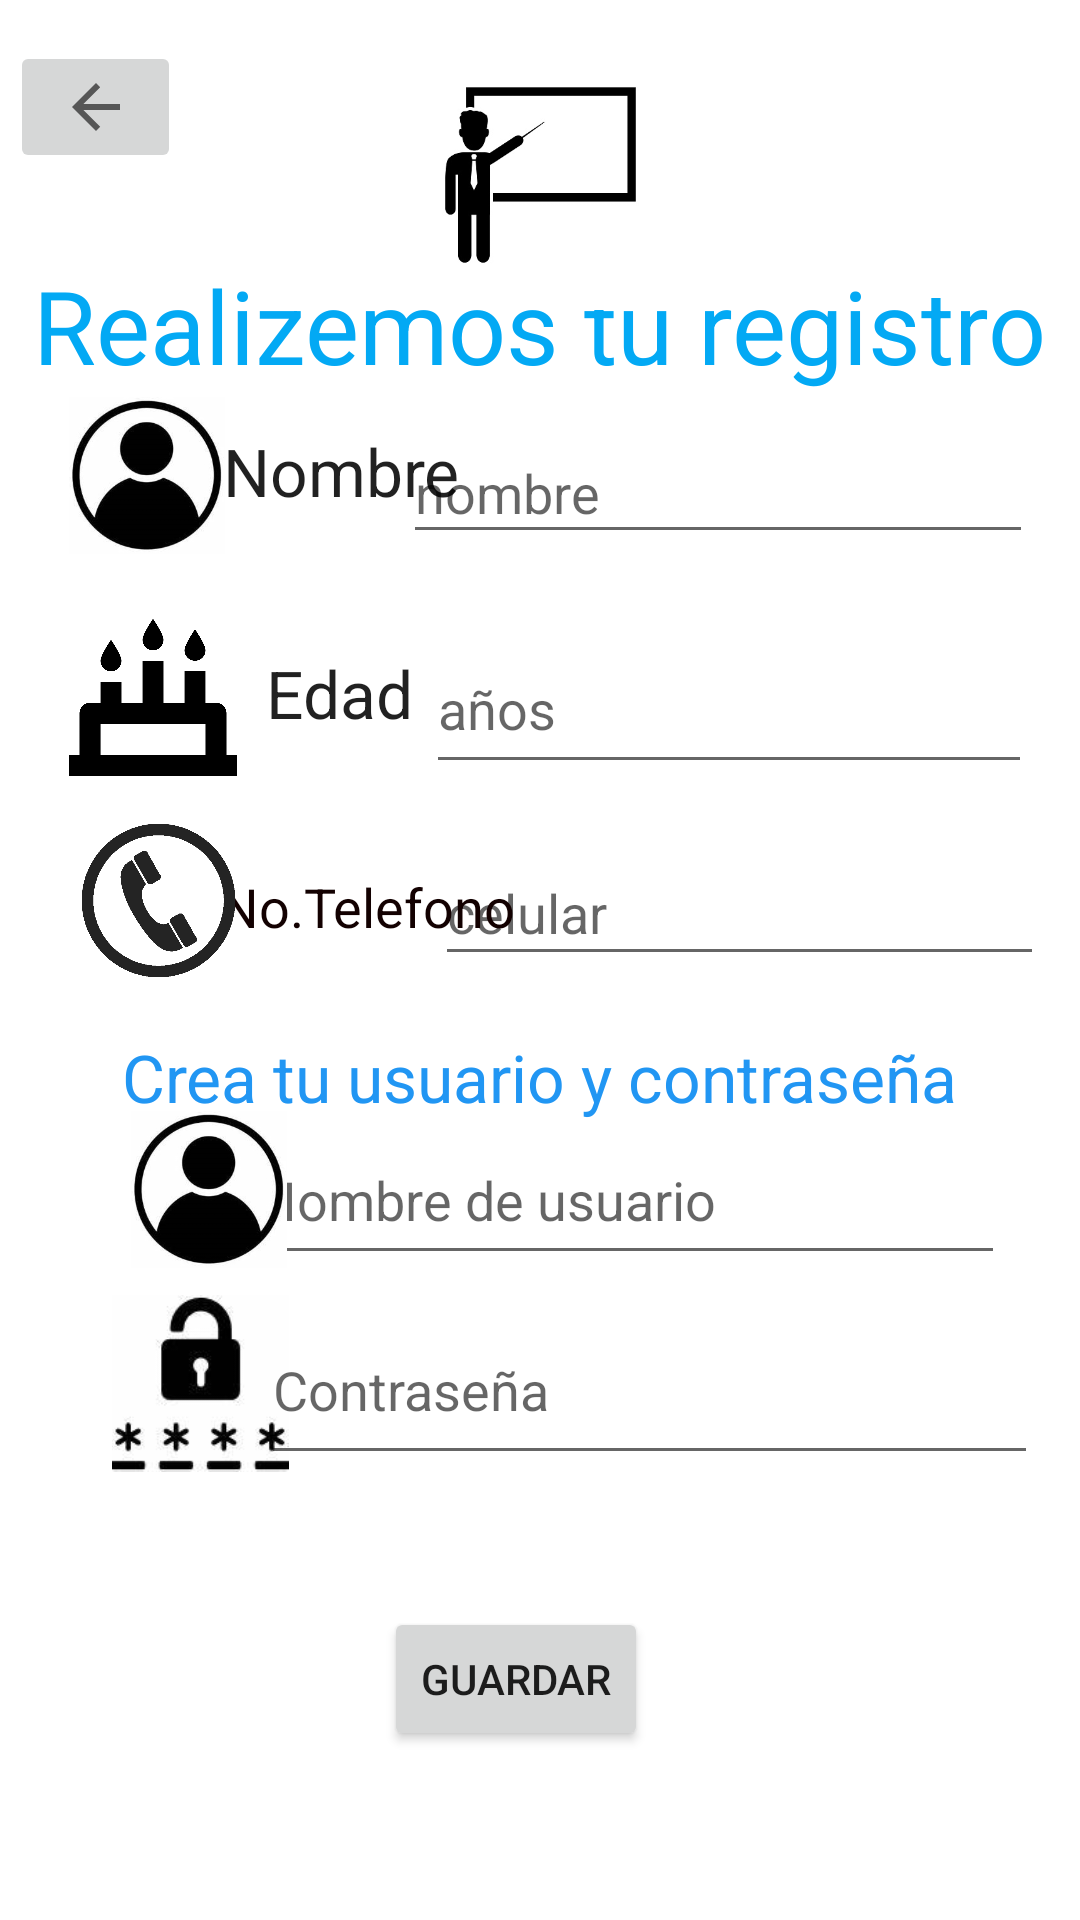

Icons on this 1080*1920 Android screen, each with the point to tap as (x=x, y=y):
contrasena: (x=200, y=1384)
persona: (x=146, y=475), (x=208, y=1189)
profe: (x=540, y=175)
